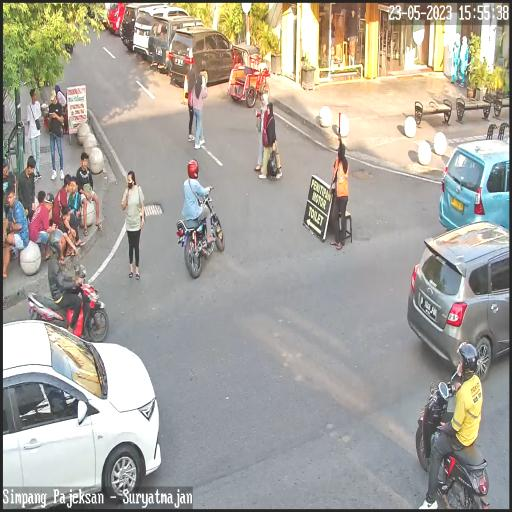mobil: (0, 324, 160, 507), (411, 214, 511, 368), (165, 28, 242, 88), (148, 15, 209, 76), (134, 6, 194, 65)
motor: (416, 377, 484, 511), (21, 273, 113, 344), (174, 178, 224, 280)
